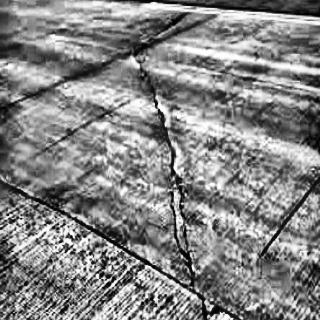crack: (132, 58, 188, 184), (160, 187, 186, 269), (183, 275, 230, 320)
